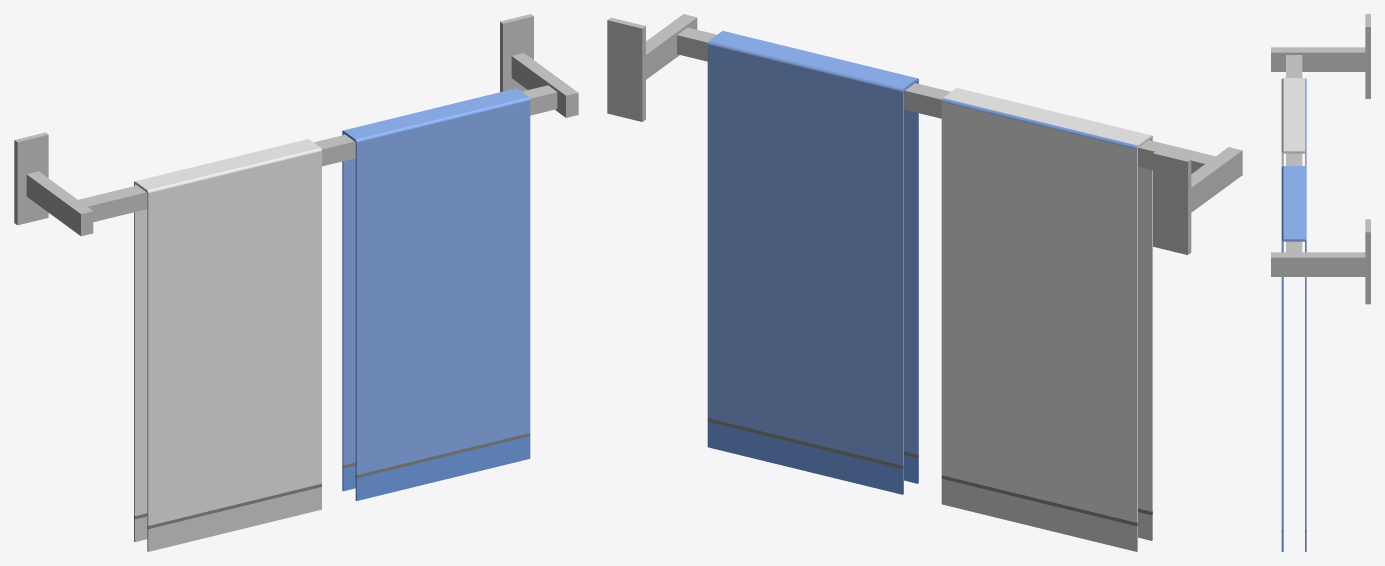
The model's file is tower_0415.fbx.
3 views of the same model, side by side, from view 1: azimuth 30°, elevation 25°; view 2: azimuth 150°, elevation 25°; view 3: azimuth 270°, elevation 25° (orthographic). The views are drawn at different scales.
Parts seen in each view (by area): view 1: Box002; view 2: Box002; view 3: Box002.
Boxes of the visible parts, x1,y1,x2,y2 form: Box002: [14, 14, 578, 551]; Box002: [607, 14, 1242, 551]; Box002: [1271, 14, 1370, 551].
Size of the model in its own units: 128 by 93.57 by 24.77.
1 material, 1 textured.
